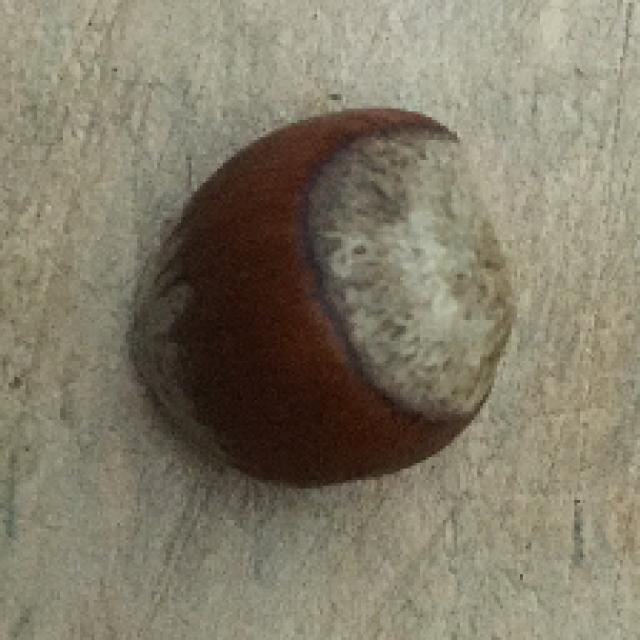qualityHazelnut: (129, 105, 514, 491)
